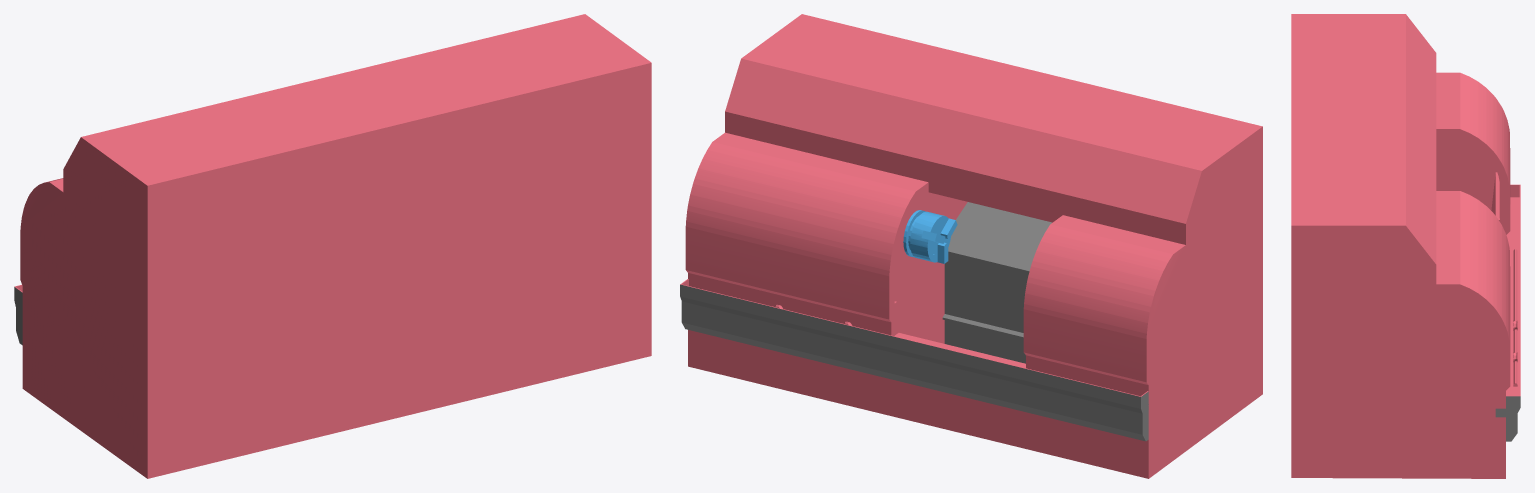
Rendered from Mesin_CNC_1_Bagian_2.fbx.
3 views of the same model, side by side, from view 1: azimuth 30°, elevation 25°; view 2: azimuth 150°, elevation 25°; view 3: azimuth 270°, elevation 25° (orthographic). The views are drawn at different scales.
Visible parts, largest first — view 1: Mesin CNC 1 Bagian 2; view 2: Mesin CNC 1 Bagian 2; view 3: Mesin CNC 1 Bagian 2.
Boxes of the visible parts, box(x1,y1,x2,y2) form: Mesin CNC 1 Bagian 2: box(14, 14, 651, 478); Mesin CNC 1 Bagian 2: box(680, 14, 1262, 478); Mesin CNC 1 Bagian 2: box(1291, 14, 1520, 478).
Bounding box in the file's own units: 214 × 120 × 98.13.
